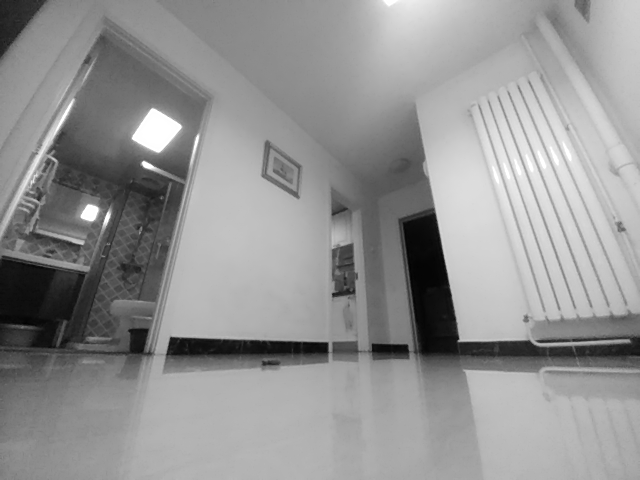pet feces: (261, 358, 282, 367)
